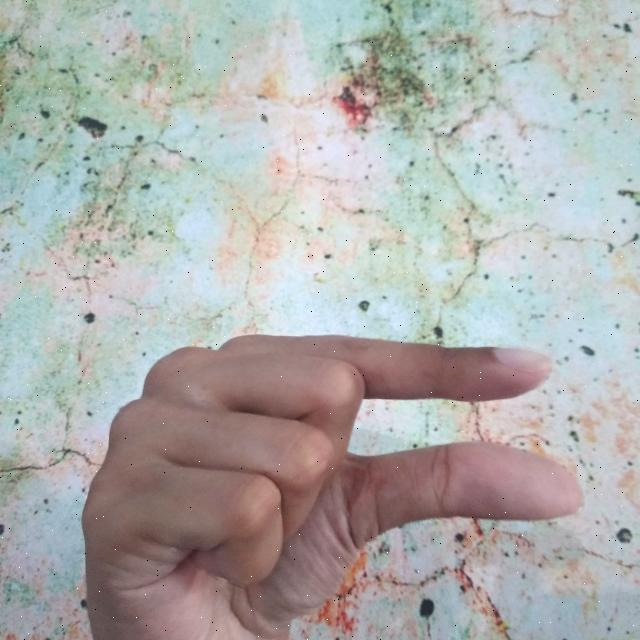G: (78, 331, 584, 640)
